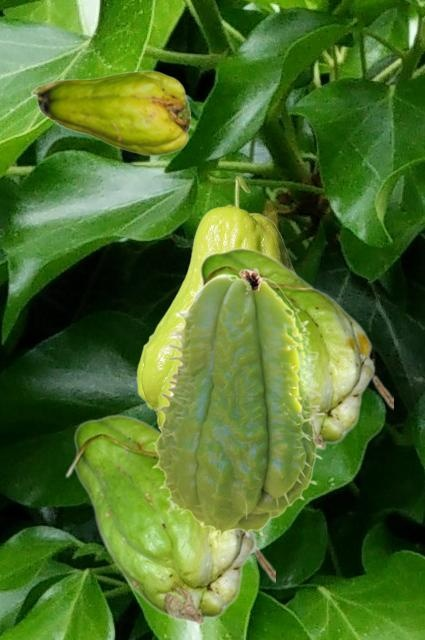sayote: (151, 267, 324, 540), (64, 414, 274, 624), (192, 247, 392, 449), (136, 175, 295, 425), (30, 70, 189, 155)
